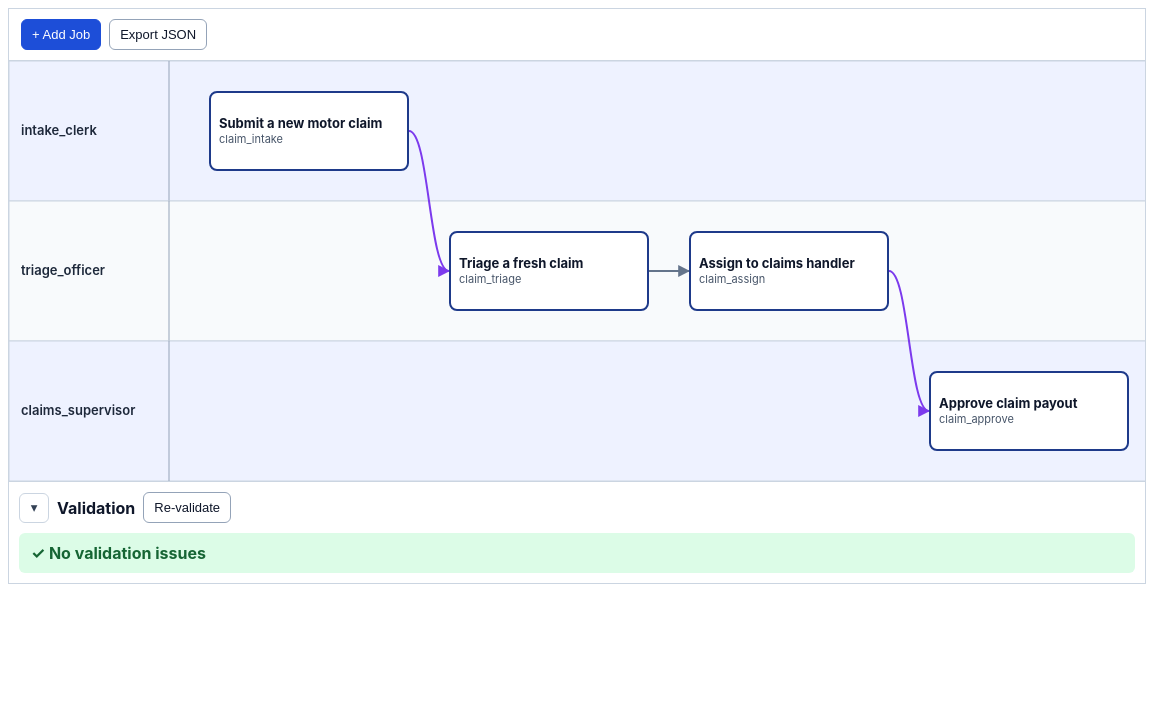
Test case: JtbdEditor authoring › opens a metadata panel for a clicked job and writes edited fields
Click the button with test id "ff-jobmap-node-claim_intake".
click(309, 131)  # box [209,91,409,171]
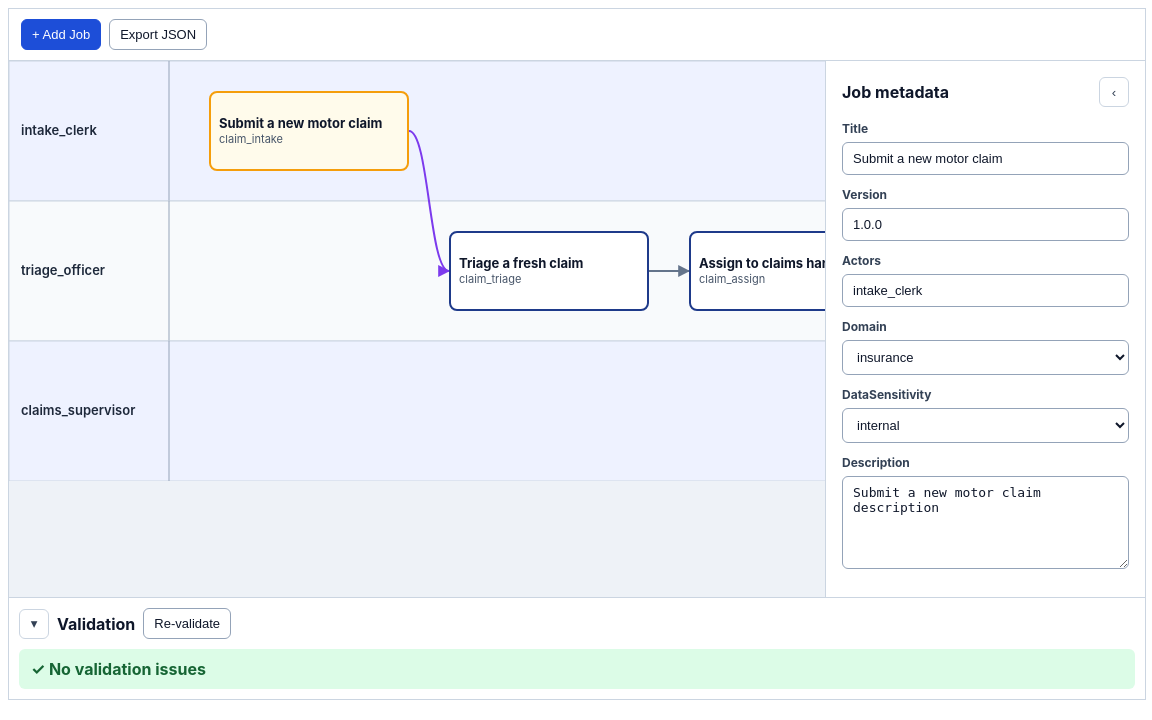
Expected: the element named "JTBD metadata editor" is shown, [825,61,1145,597]
Replace the text in the field labelled "Title" with "Updated claim intake" at (986, 158), box [842,142,1129,175]
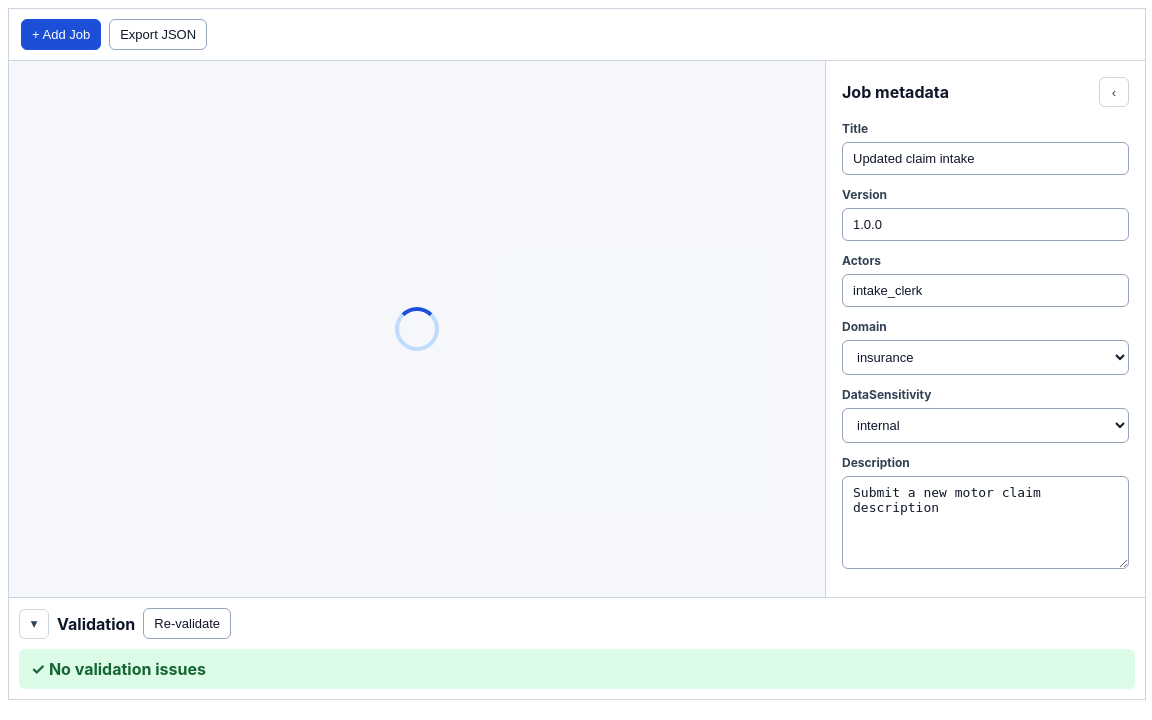
Replace the text in the field labelled "Actors" with "broker, adjuster" at (986, 290), box [842,274,1129,307]
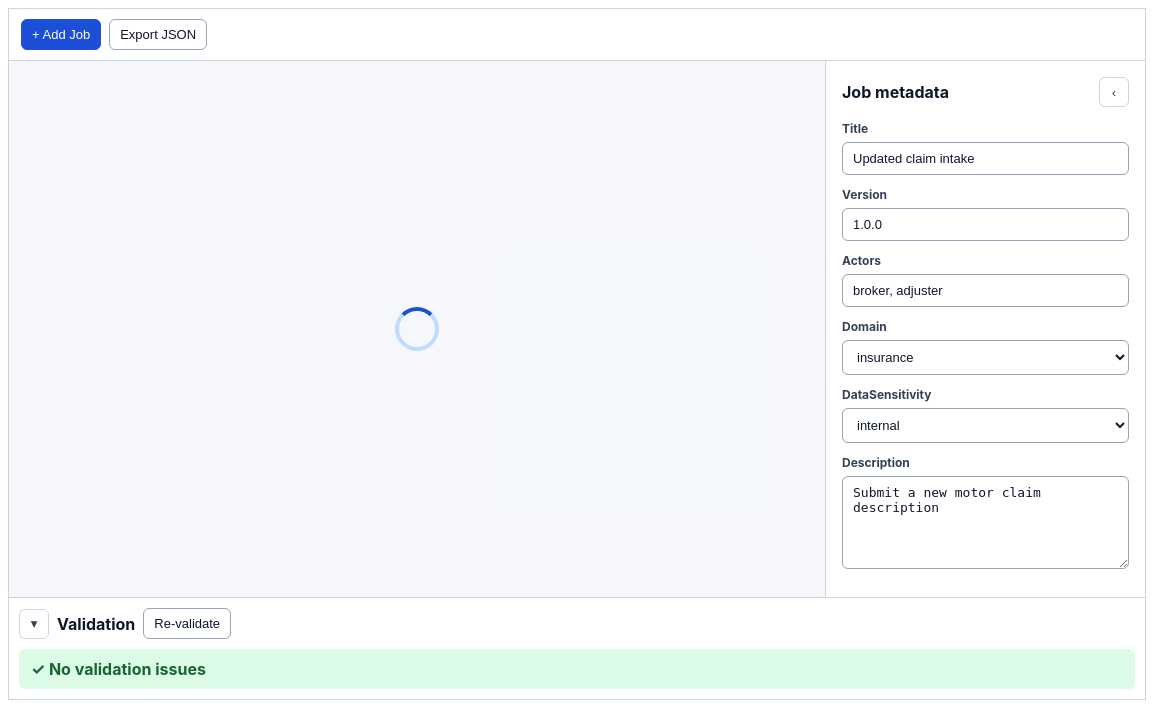
Select "restricted" in the dropdown labelled "DataSensitivity" at (986, 426), box [842,408,1129,443]
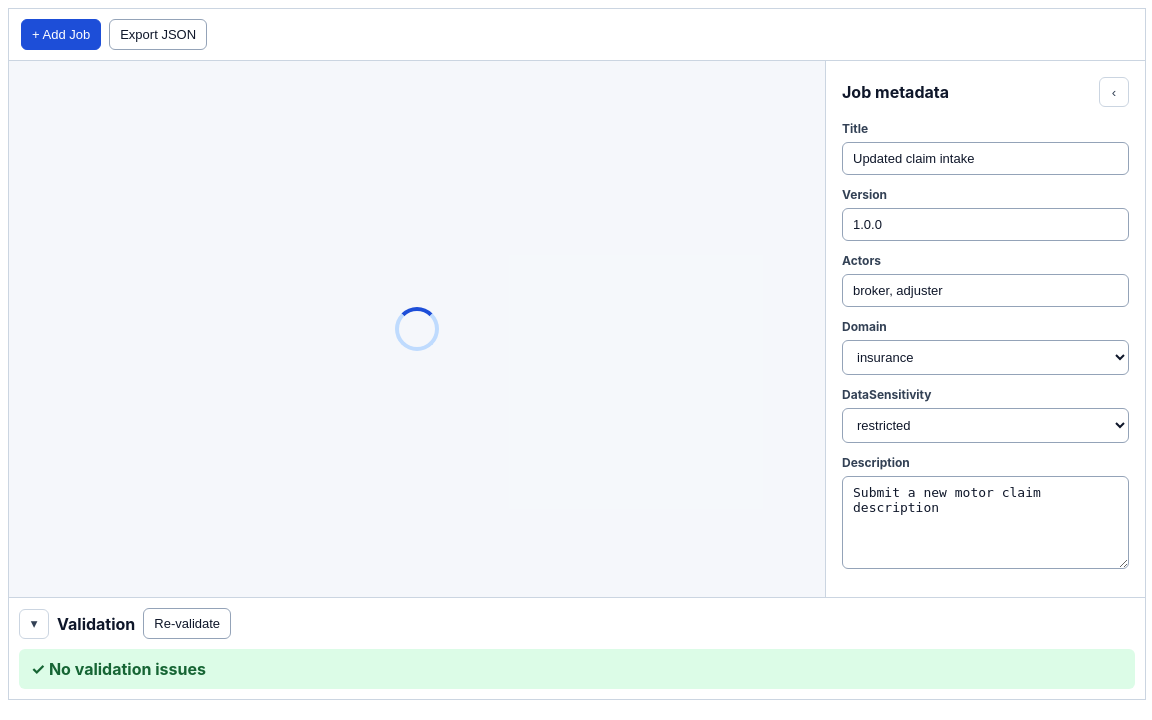
Replace the text in the field labelled "Version" with "not-semver" at (986, 224), box [842,208,1129,241]
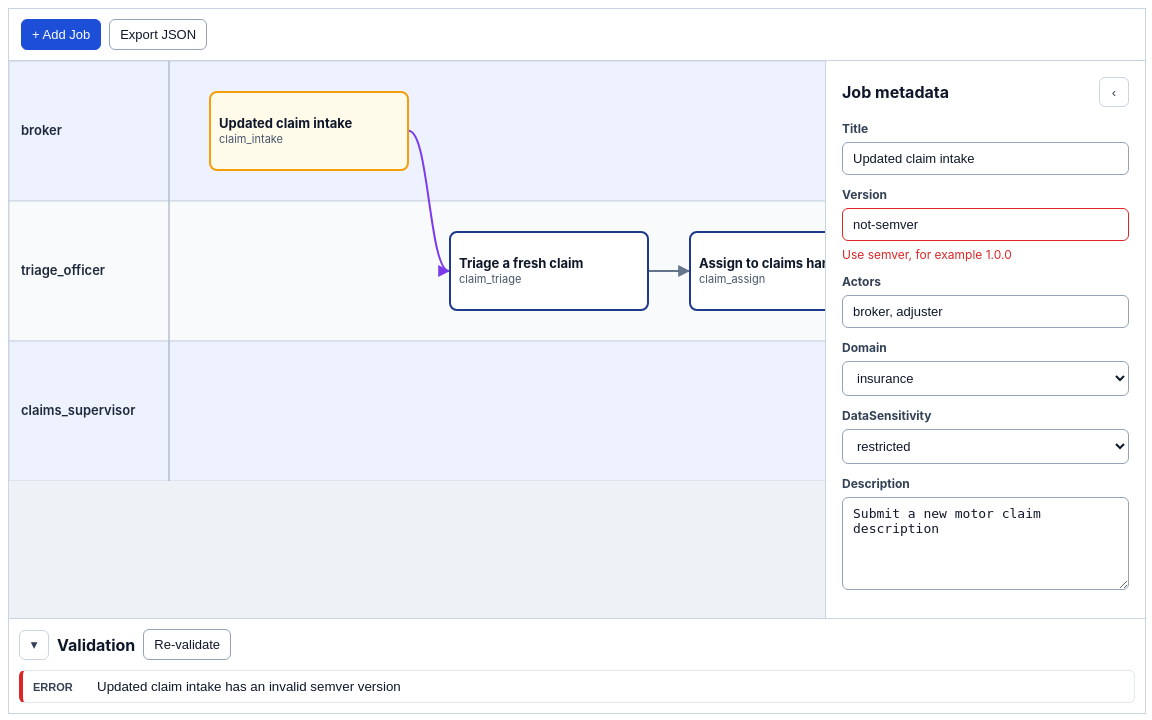
Expected: the text "Use semver, for example 1.0.0" is shown, [842,247,1012,262]
